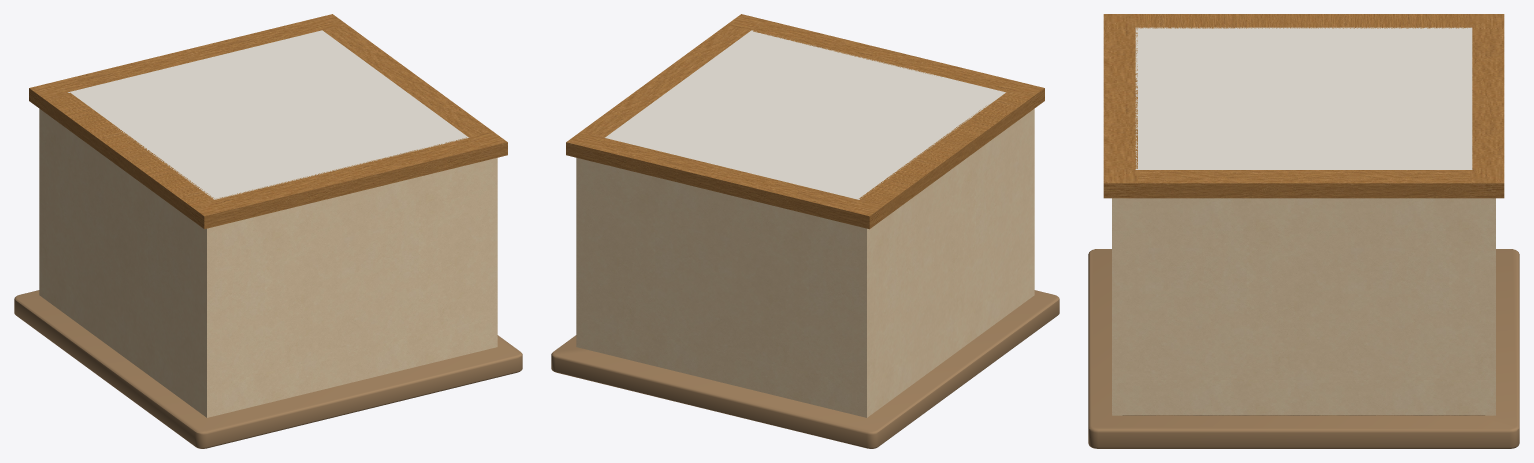
File: virtualroom_empty.glb
The picture shows the model from 3 angles, left to right: view 1: azimuth 30°, elevation 25°; view 2: azimuth 150°, elevation 25°; view 3: azimuth 270°, elevation 25°; orthographic projection. The views are drawn at different scales.
Visible parts, largest first — view 1: Shell_Ceiling, Shell_Wall_zmax, Shell_Wall_xmin, Shell_FloorEdge, Shell_Band_xmin, Shell_Trim_zmax, Shell_Trim_xmin, Shell_Trim_zmin, Shell_Trim_xmax, Shell_Wall_xmax, Shell_Trim_xmin_zmax, Shell_Trim_xmax_zmax (+1 smaller); view 2: Shell_Ceiling, Shell_Wall_zmin, Shell_Wall_xmin, Shell_Band_zmin, Shell_FloorEdge, Shell_Trim_zmin, Shell_Trim_xmin, Shell_Band_xmin, Shell_Trim_zmax, Shell_Trim_xmax, Shell_Wall_xmax, Shell_Trim_xmin_zmin (+2 smaller); view 3: Shell_Wall_xmax, Shell_Ceiling, Shell_Band_xmax, Shell_FloorEdge, Shell_Trim_xmax, Shell_Trim_zmax, Shell_Trim_xmin, Shell_Trim_zmin, Shell_Trim_xmax_zmin, Shell_Trim_xmax_zmax, Shell_Trim_xmin_zmax, Shell_Trim_xmin_zmin.
Part boxes in pixels (x1,y1,x2,y2): Shell_Ceiling: (68, 30, 468, 199); Shell_Wall_zmax: (214, 159, 490, 415); Shell_Wall_xmin: (39, 109, 214, 417); Shell_FloorEdge: (14, 290, 522, 448); Shell_Band_xmin: (61, 154, 184, 329); Shell_Trim_zmax: (216, 137, 481, 222); Shell_Trim_xmin: (44, 92, 214, 217); Shell_Trim_zmin: (55, 20, 319, 91); Shell_Trim_xmax: (324, 25, 492, 136); Shell_Wall_xmax: (490, 158, 497, 348); Shell_Trim_xmin_zmax: (189, 199, 230, 229); Shell_Trim_xmax_zmax: (468, 131, 507, 161); Shell_Ceiling: (605, 30, 1005, 199); Shell_Wall_zmin: (583, 159, 859, 415); Shell_Wall_xmin: (859, 109, 1034, 417); Shell_Band_zmin: (614, 190, 828, 338); Shell_FloorEdge: (551, 290, 1059, 448); Shell_Trim_zmin: (592, 138, 857, 222); Shell_Trim_xmin: (859, 93, 1029, 217); Shell_Band_xmin: (889, 146, 1012, 325); Shell_Trim_zmax: (753, 20, 1018, 91); Shell_Trim_xmax: (581, 25, 749, 136); Shell_Wall_xmax: (576, 158, 583, 348); Shell_Trim_xmin_zmin: (843, 199, 884, 229); Shell_Wall_xmax: (1112, 198, 1495, 415); Shell_Ceiling: (1135, 27, 1472, 169); Shell_Band_xmax: (1162, 225, 1445, 335); Shell_FloorEdge: (1088, 249, 1519, 448); Shell_Trim_xmax: (1138, 170, 1469, 198); Shell_Trim_zmax: (1103, 28, 1137, 168); Shell_Trim_xmin: (1138, 14, 1469, 28); Shell_Trim_zmin: (1472, 28, 1504, 168); Shell_Trim_xmax_zmin: (1470, 169, 1504, 198); Shell_Trim_xmax_zmax: (1103, 169, 1137, 198); Shell_Trim_xmin_zmax: (1103, 14, 1137, 28); Shell_Trim_xmin_zmin: (1470, 14, 1504, 28).
Size of the model in its own units: 5.32 by 3.54 by 5.32.
16 materials, 13 textured.
